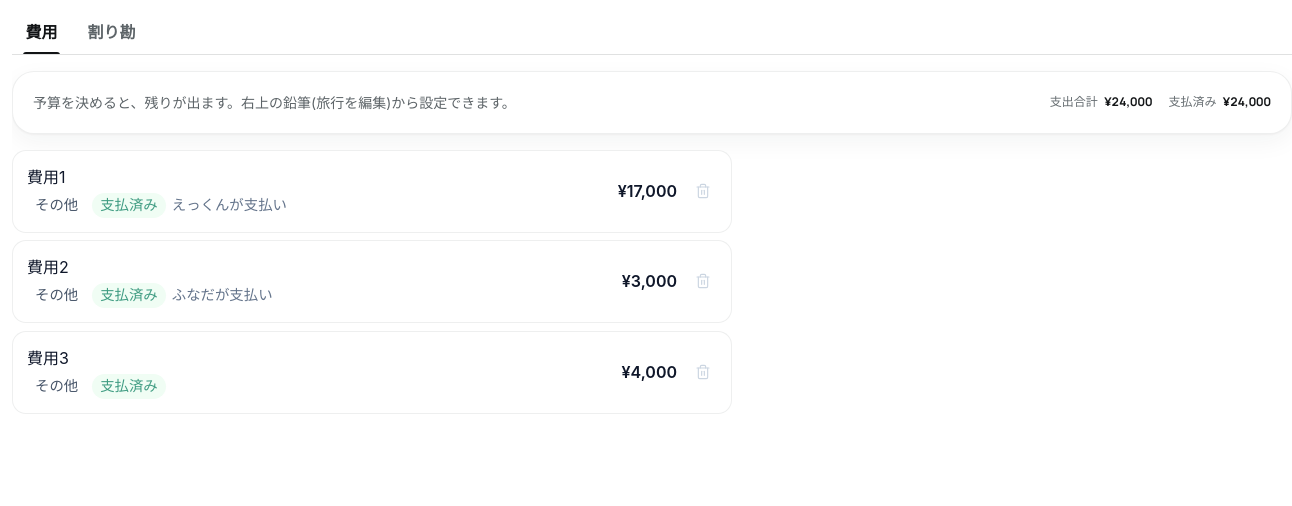
Test: 費用の一覧: 支払った人と割り勘 › 参加者が2人以上なら、払った額と、受け取る/払う差額を出す
The width and height of the screenshot is (1292, 506).
Click the tab "割り勘" at (111, 33), box [74, 12, 149, 54]
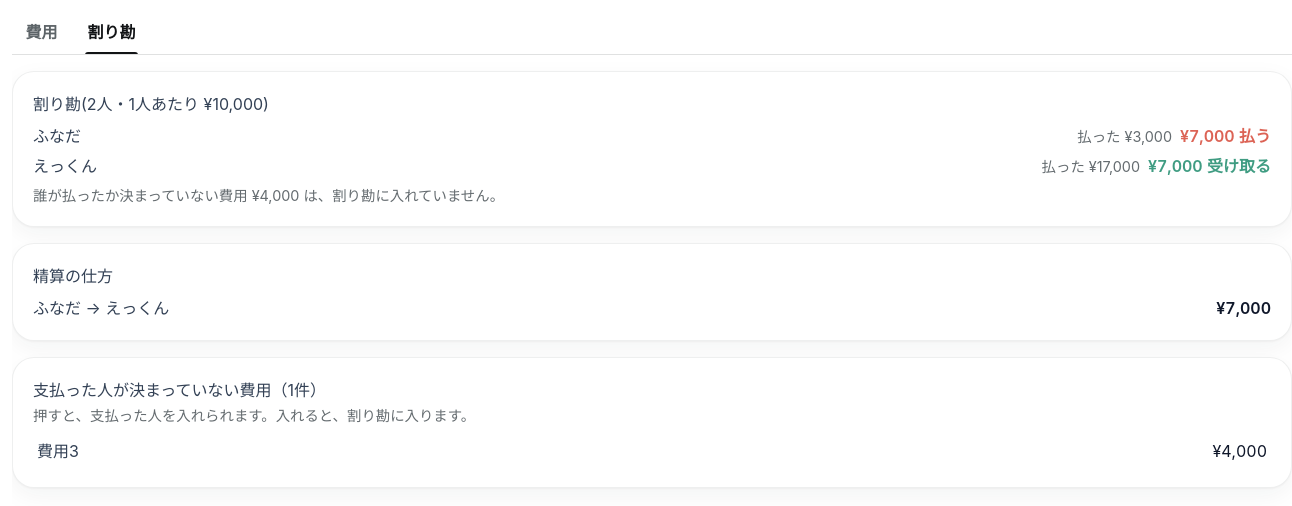
Now the element labelled "割り勘" shows "2人・1人あたり ¥10,000", box [33, 94, 269, 114]
Now the element labelled "割り勘" shows "¥7,000 払う", box [1180, 126, 1271, 146]
Now the element labelled "割り勘" shows "¥7,000 受け取る", box [1148, 156, 1271, 176]
